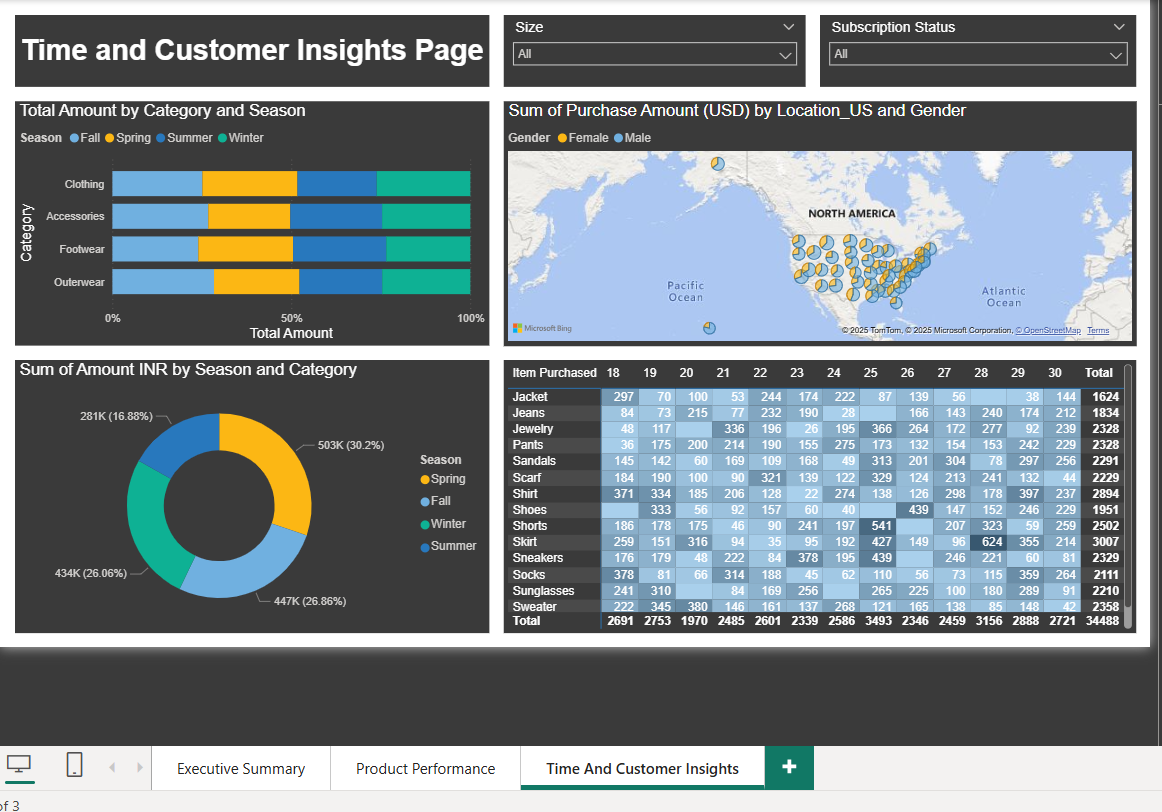

The dashboard page shown, as its layout file describes it:
{"tool":"powerbi","page":{"name":"Time And Customer Insights","canvas":[1280,720],"ordinal":2},"visuals":[{"type":"textbox","box":[16,16,560,80],"z":0},{"type":"hundredPercentStackedBarChart","title":"Seasonal Revenue Distribution by Cate","fields":{"Category":["shopping_behavior_updated.Category"],"Y":["shopping_behavior_updated.Total Amount"],"Series":["shopping_behavior_updated.Season"]},"box":[16,112,560,272],"z":1000},{"type":"donutChart","title":"Revenue Contribution by Season","fields":{"Category":["shopping_behavior_updated.Season"],"Y":["Sum(shopping_behavior_updated.Amount INR)"],"Series":["shopping_behavior_updated.Category"]},"box":[16,400,560,304],"z":2000},{"type":"map","title":"Revenue by Location & Gender","fields":{"Category":["shopping_behavior_updated.Location_US"],"Size":["Sum(shopping_behavior_updated.Purchase Amount (USD))"],"Series":["shopping_behavior_updated.Gender"]},"box":[592,112,672,272],"z":3000},{"type":"pivotTable","fields":{"Rows":["shopping_behavior_updated.Item Purchased"],"Values":["Sum(shopping_behavior_updated.Purchase Amount (USD))"],"Columns":["shopping_behavior_updated.Age"]},"box":[592,400,672,304],"z":4000},{"type":"slicer","fields":{"Values":["shopping_behavior_updated.Gender"]},"box":[592,16,320,80],"z":5000},{"type":"slicer","fields":{"Values":["shopping_behavior_updated.Subscription Status"]},"box":[928,16,336,80],"z":6000}]}

Visuals, with their boxes on the page's 1280x720 design canvas (x1, y1, x2, y2). These are canvas units, not pixel positions in the 1162x812 screenshot, which may show the page scaled, cropped or inside an application window:
textbox: BBox(16, 16, 576, 96)
"Seasonal Revenue Distribution by Cate" hundredPercentStackedBarChart: BBox(16, 112, 576, 384)
"Revenue Contribution by Season" donutChart: BBox(16, 400, 576, 704)
"Revenue by Location & Gender" map: BBox(592, 112, 1264, 384)
pivotTable - shopping_behavior_updated.Item Purchased x Sum(shopping_behavior_updated.Purchase Amount (USD)): BBox(592, 400, 1264, 704)
slicer - shopping_behavior_updated.Gender: BBox(592, 16, 912, 96)
slicer - shopping_behavior_updated.Subscription Status: BBox(928, 16, 1264, 96)
